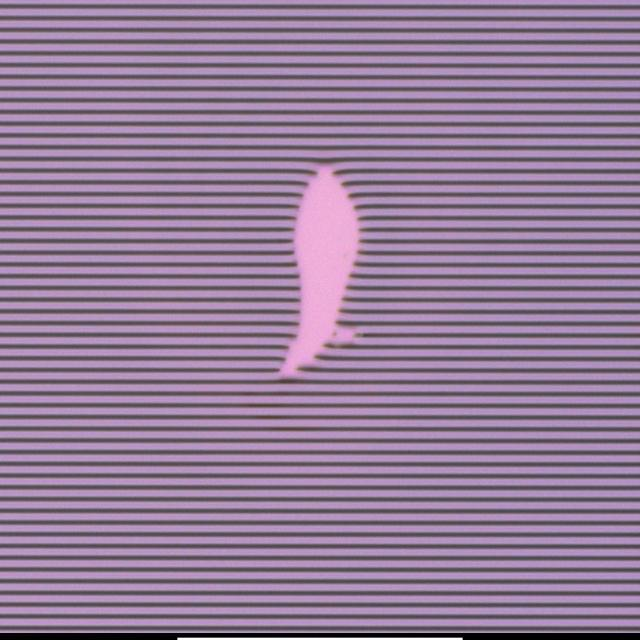03_intrusion: (278, 155, 364, 383)
